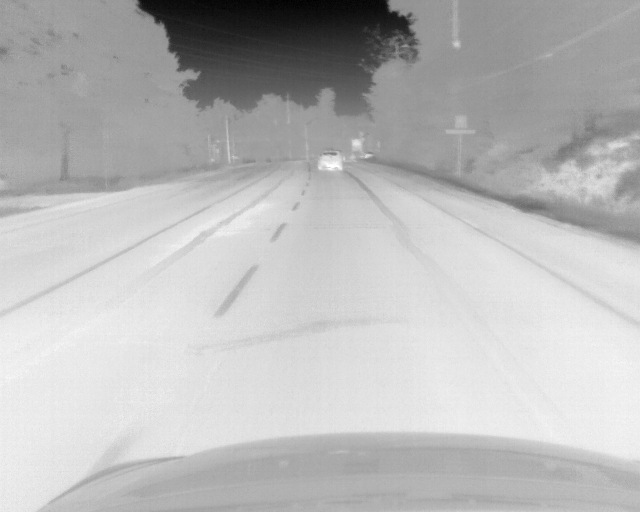car: (316, 149, 344, 173)
